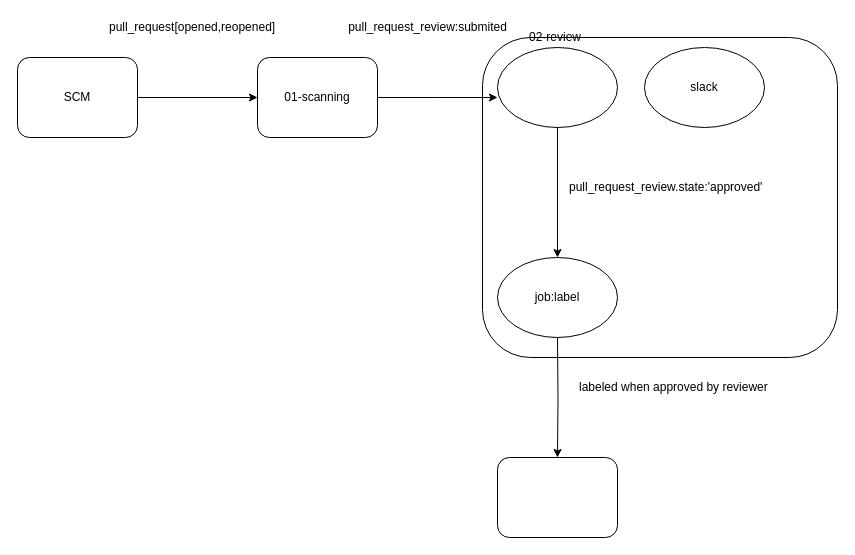
Some shapes in this 855 by 555 pixel diagram are drawn without their labels. The centre of each missing label's shape, as x and y in pixels:
"job:plan" goes at [557,87].
"workflow1 apply" goes at [557,497].
